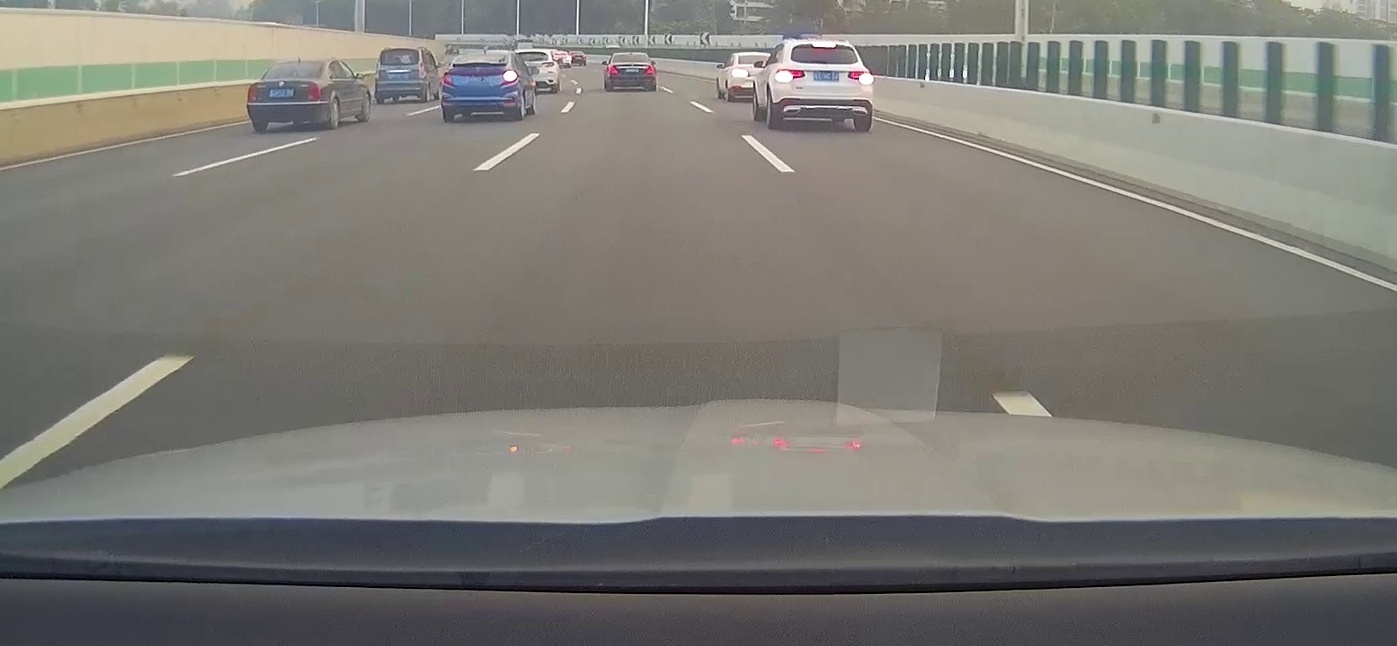L_light: (774, 68, 805, 82), (247, 83, 259, 104), (443, 72, 454, 87), (608, 64, 619, 74), (375, 62, 380, 79)
R_light: (847, 71, 874, 85), (307, 81, 321, 102), (502, 70, 517, 83), (419, 61, 426, 79), (644, 65, 654, 75)
T_light: (812, 42, 835, 48), (291, 63, 307, 68), (478, 53, 490, 57), (397, 49, 406, 51), (626, 54, 634, 56)
day-brake: (771, 37, 874, 130)
day-no: (245, 60, 328, 131), (374, 46, 427, 103), (604, 51, 657, 91)
day-right: (440, 48, 519, 122)
